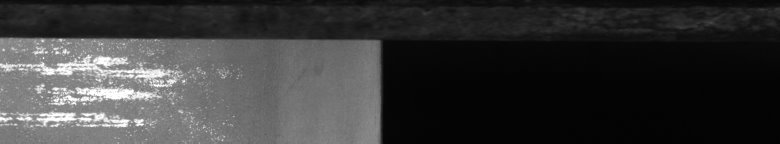kb: (4, 32, 372, 136)
